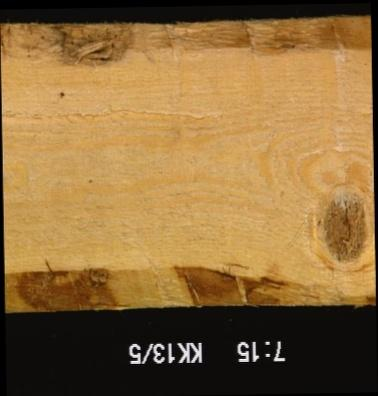small_knot: (56, 86, 66, 100)
sound_knot: (320, 190, 370, 264)
wave: (0, 19, 370, 64), (5, 266, 374, 308)
